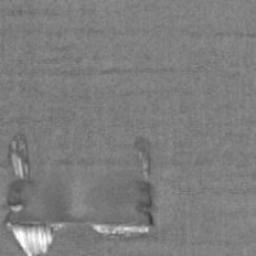Rolled pit: (5, 134, 154, 256)
